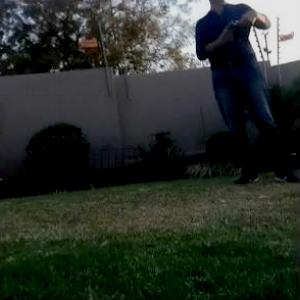follow: (192, 0, 299, 189)
